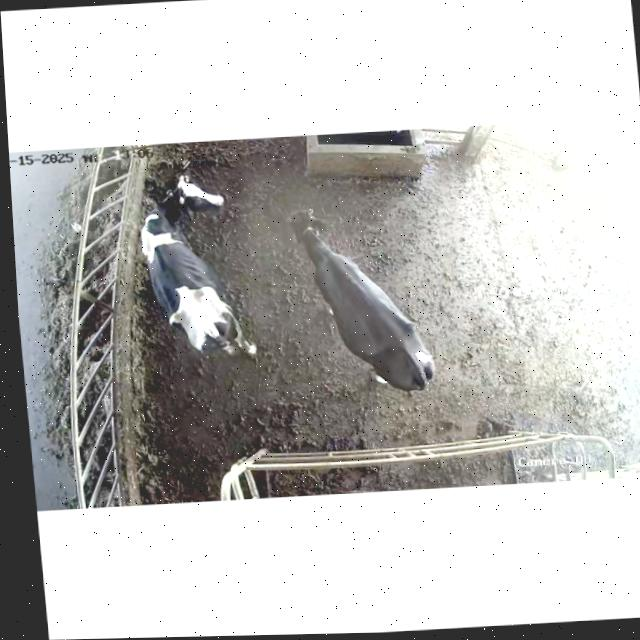stand: (274, 189, 445, 406), (128, 170, 267, 370)
